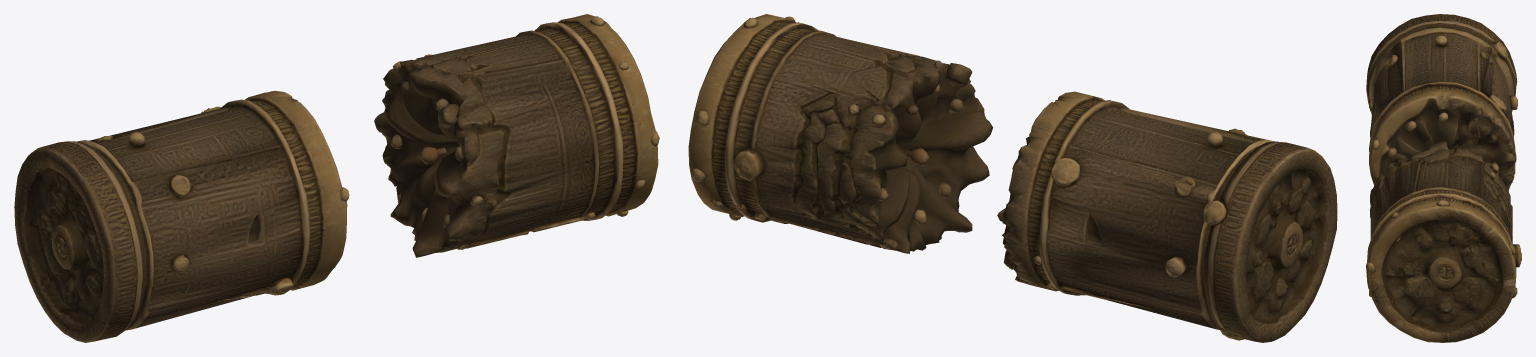
File: ch9_sheared_resonance_conduit.glb
3 renders of one model, left to right at view 1: azimuth 30°, elevation 25°; view 2: azimuth 150°, elevation 25°; view 3: azimuth 270°, elevation 25°, orthographic. The views are drawn at different scales.
Visible parts, largest first — view 1: tripo_node_ba16dd95-4afa-4617-b60e-56446d4bd330; view 2: tripo_node_ba16dd95-4afa-4617-b60e-56446d4bd330; view 3: tripo_node_ba16dd95-4afa-4617-b60e-56446d4bd330.
Part boxes in pixels (<box>): tripo_node_ba16dd95-4afa-4617-b60e-56446d4bd330: <box>14,14,659,342</box>; tripo_node_ba16dd95-4afa-4617-b60e-56446d4bd330: <box>688,14,1337,342</box>; tripo_node_ba16dd95-4afa-4617-b60e-56446d4bd330: <box>1366,14,1521,342</box>.
Bounding box in the file's own units: 0.998 × 0.3262 × 0.3301.
1 material, 1 textured.
